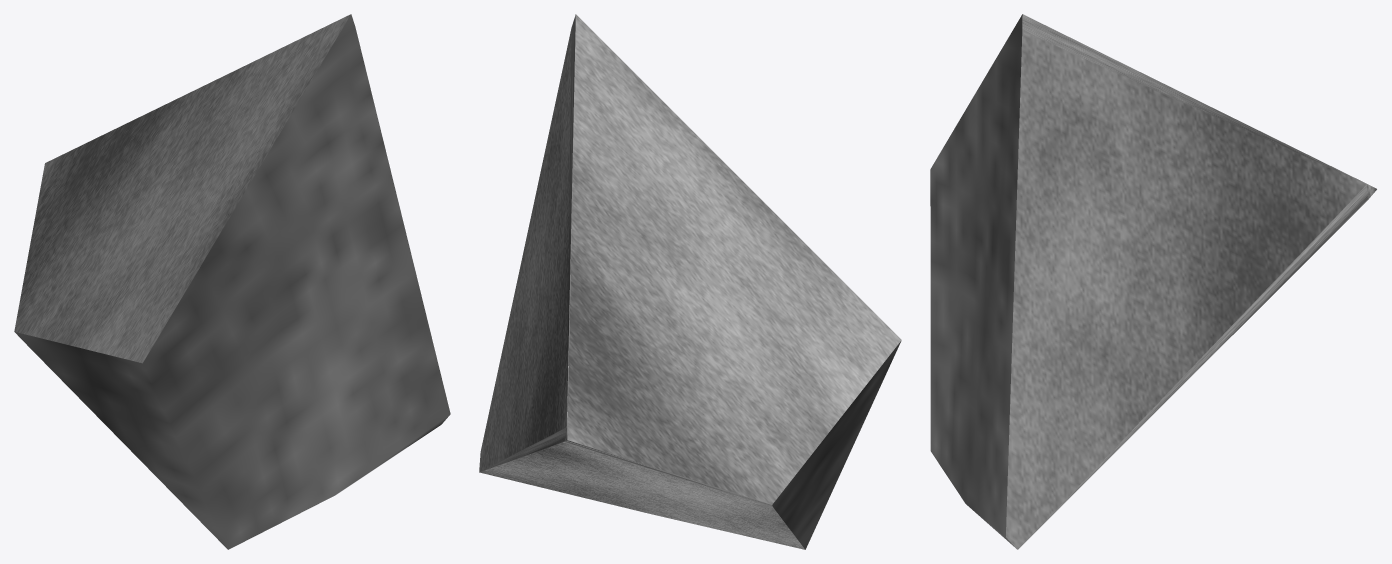
The model's file is leg_2_cell_018.fbx.
The picture shows the model from 3 angles, left to right: view 1: azimuth 30°, elevation 25°; view 2: azimuth 150°, elevation 25°; view 3: azimuth 270°, elevation 25°; orthographic projection. The views are drawn at different scales.
Visible parts, largest first — view 1: leg_2_cell.018; view 2: leg_2_cell.018; view 3: leg_2_cell.018.
Part boxes in pixels (x1,y1,x2,y2): leg_2_cell.018: (14, 14, 450, 549); leg_2_cell.018: (479, 14, 901, 549); leg_2_cell.018: (930, 14, 1376, 549).
Size of the model in its own units: 20.66 by 26.47 by 20.33.
